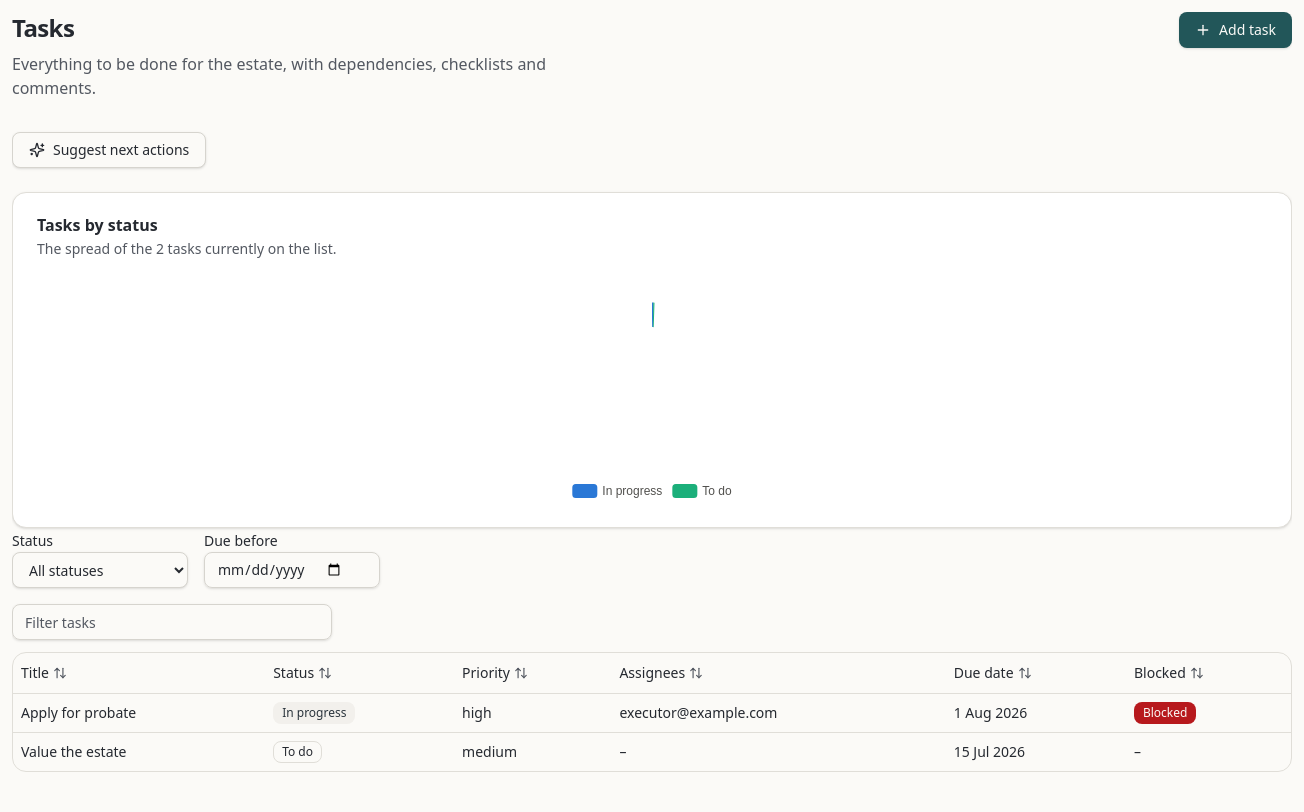
it: TasksPage › filters tasks by status and due-before date
The width and height of the screenshot is (1304, 812).
Expected: the text "Apply for probate" is shown, [21,702,136,722]
Select "To do" in the dropdown labelled "Status": (100, 570) [12,552,188,588]
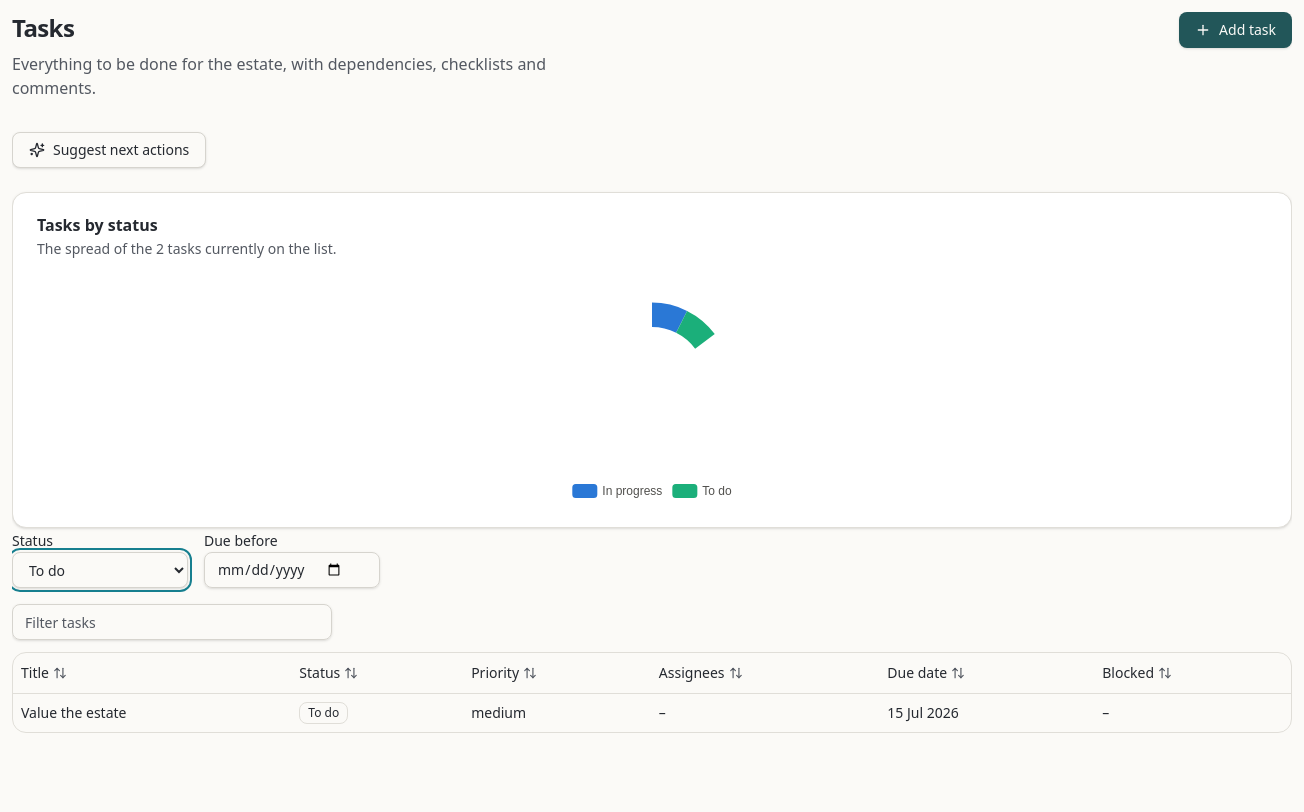
Expected: the text "Value the estate" is shown, [21,702,126,722]
Expected: the text "Apply for probate" is gone
Select "All statuses" in the dropdown labelled "Status": (100, 570) [12,552,188,588]
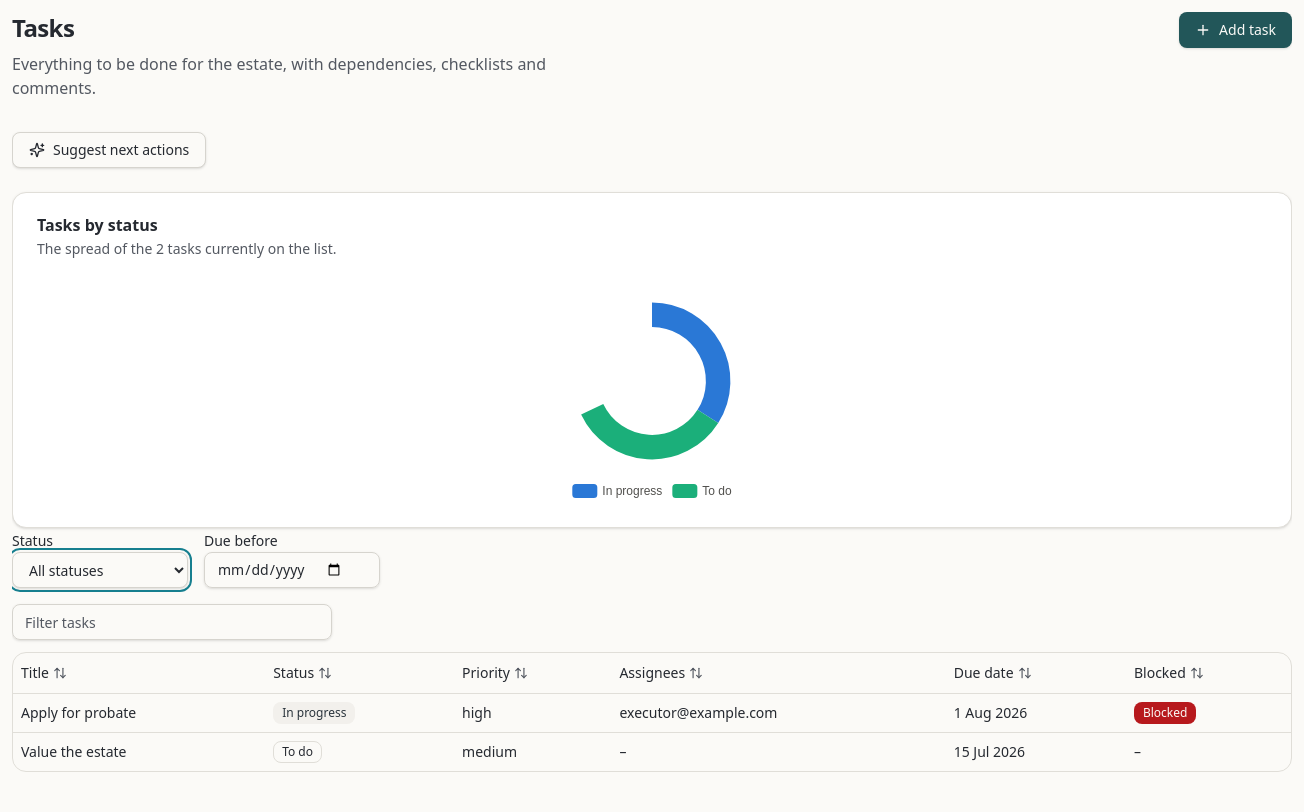
Note: Due before 20 Jul 2026: only the task due 15 Jul remains.
In the date field labelled "Due before": (292, 570) [204,552,380,588], type "2026-07-20"
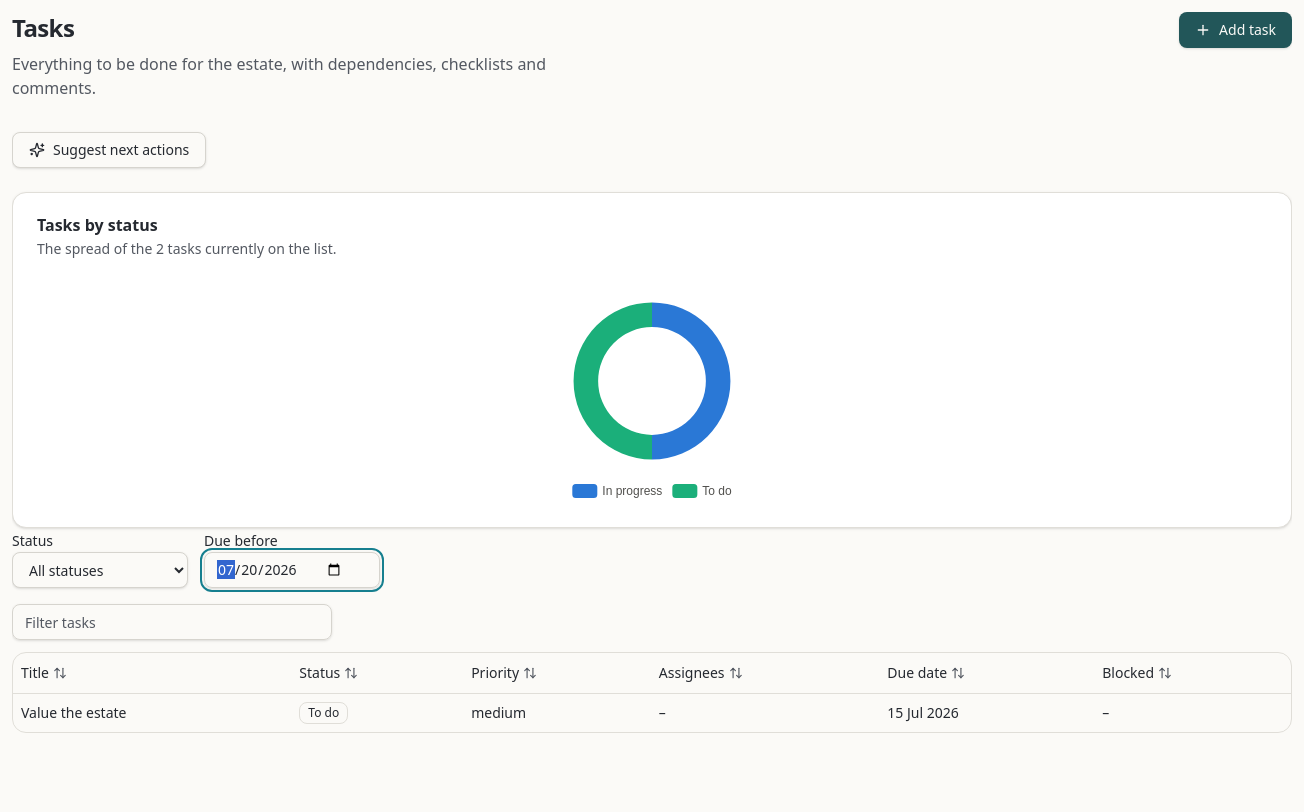
Expected: the text "Value the estate" is shown, [21,702,126,722]
Expected: the text "Apply for probate" is gone
